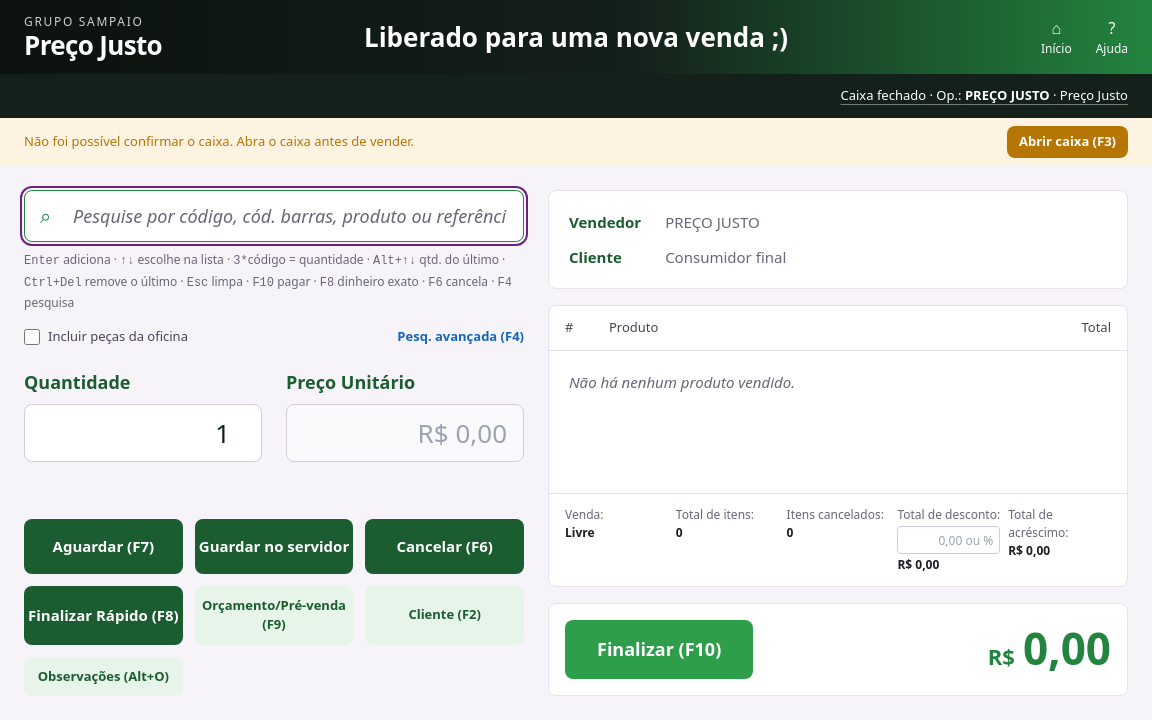
Scenario: D-02: a leitura e o Finalizar › bipe e F8 no mesmo instante: a venda espera a leitura e sai COM o item
In the field labelled "Pesquise por código, cód. barras, produto ou referência": [274, 216] box [24,190,524,242], type "7896006711116"
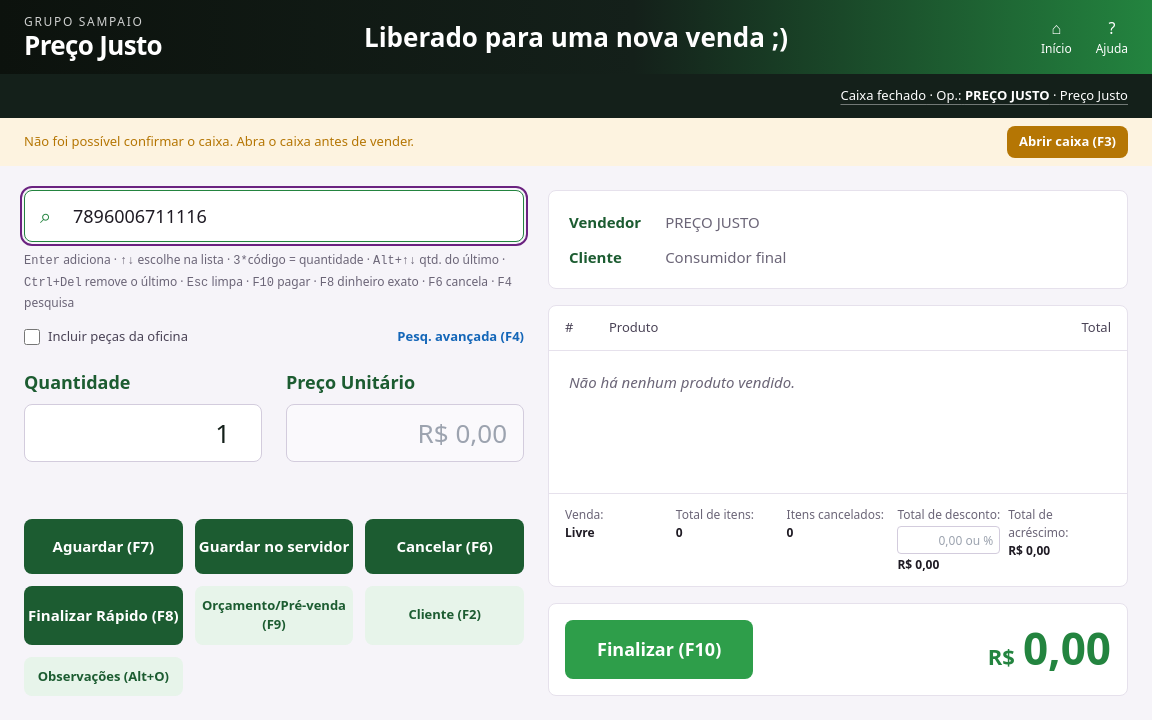
Press Enter in the field named "Pesquise por código", box [24,190,524,242]
Press F8 in the field named "Pesquise por código", box [24,190,524,242]
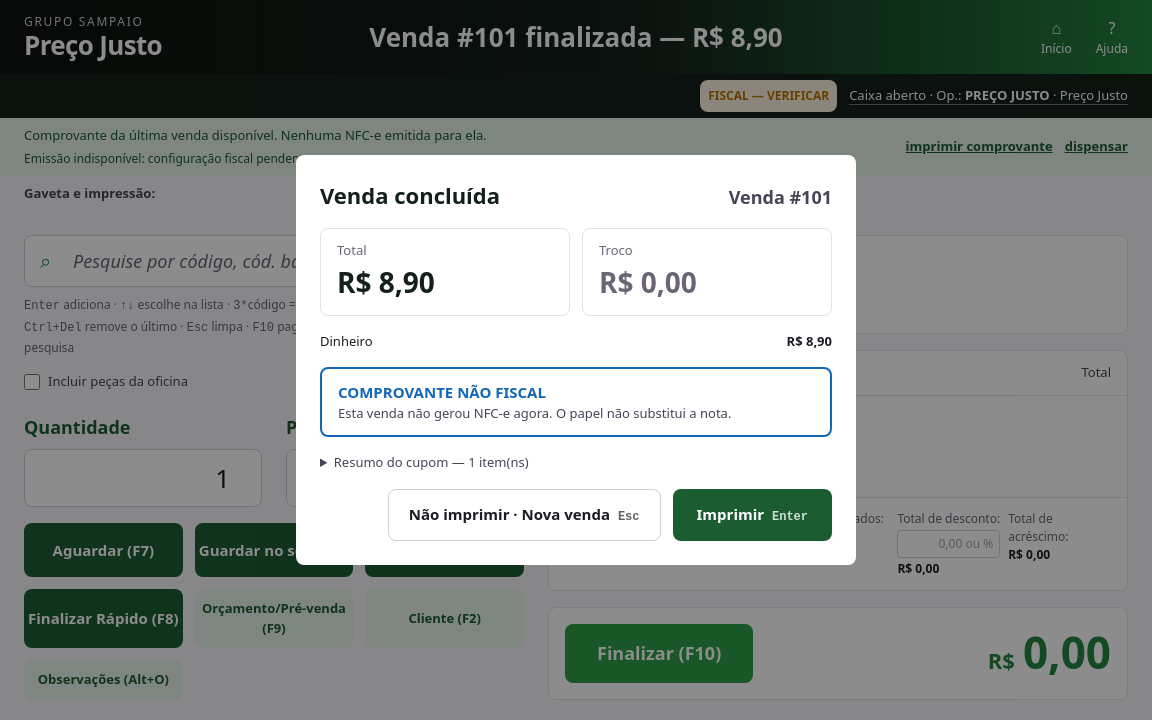
Check: the dialog "Venda concluída" is shown
